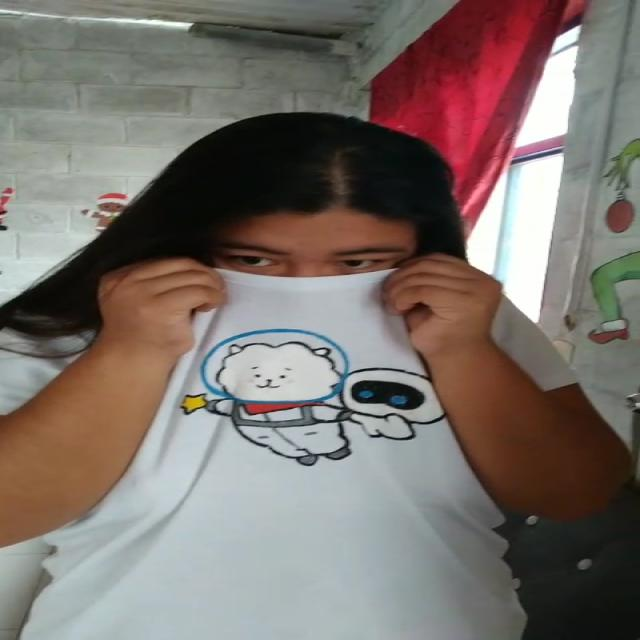8_ropa_rostro: (127, 259, 495, 449)
